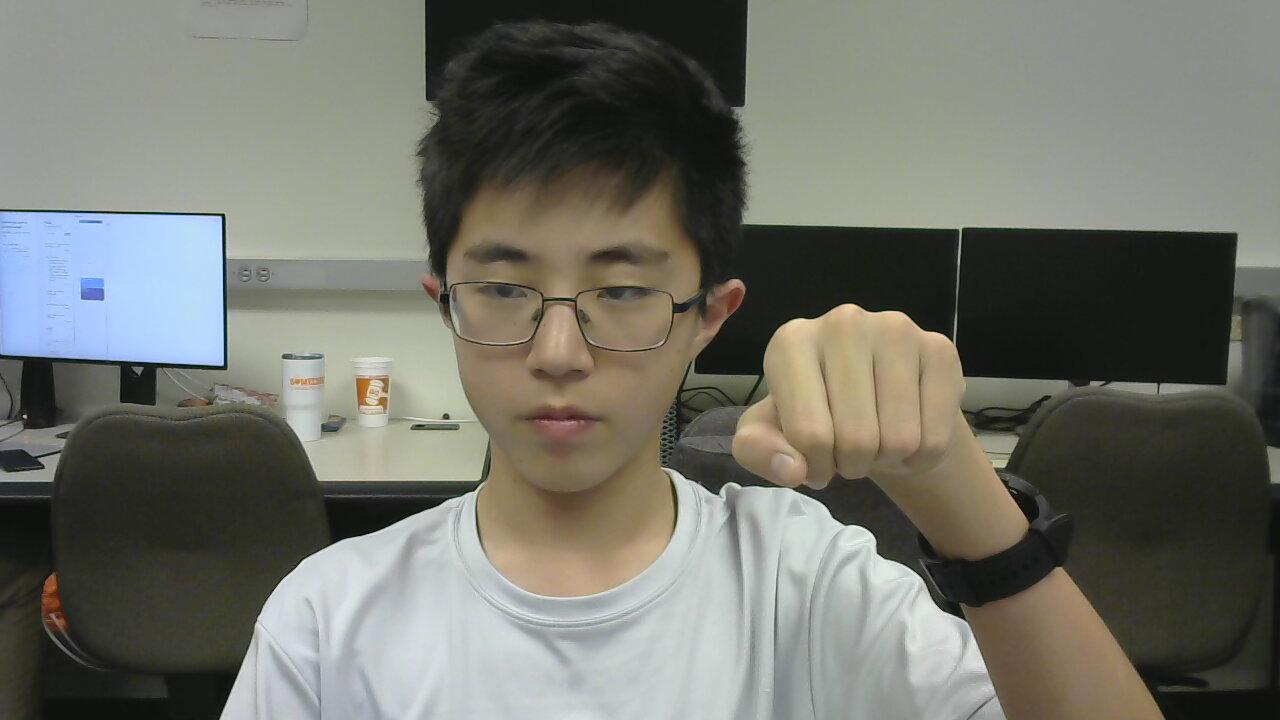fist: (728, 297, 987, 504)
